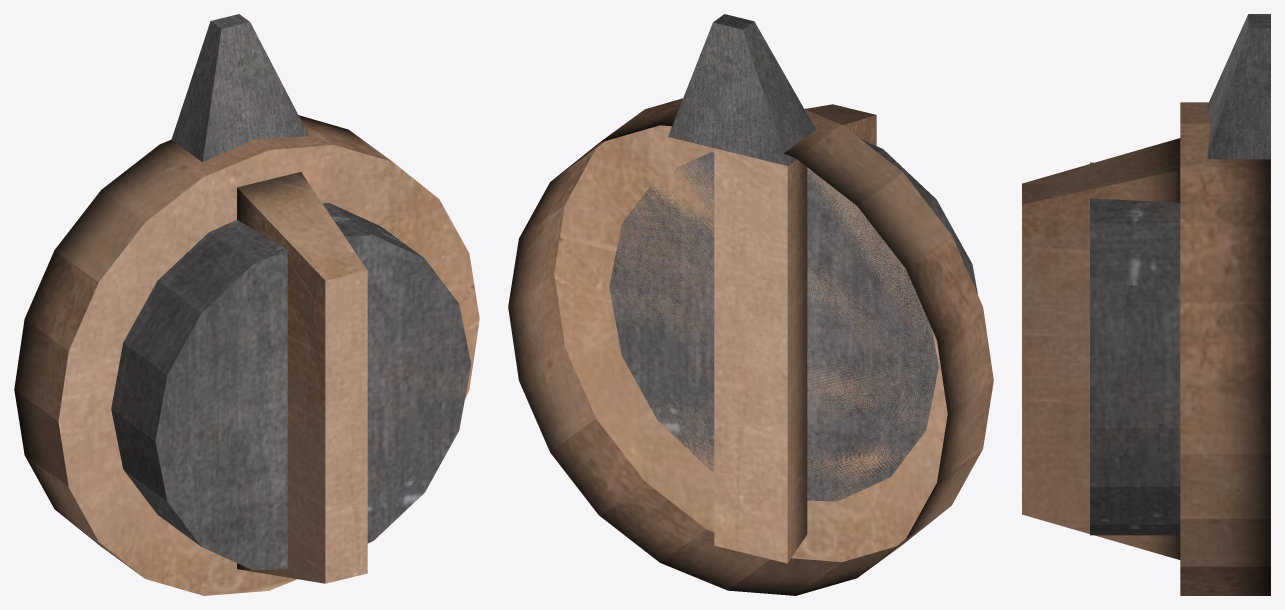
File: 914knob.fbx
3 renders of one model, left to right at view 1: azimuth 30°, elevation 25°; view 2: azimuth 150°, elevation 25°; view 3: azimuth 270°, elevation 25°, orthographic. The views are drawn at different scales.
Parts seen in each view (by area): view 1: Scene_Root (×2); view 2: Scene_Root (×2); view 3: Scene_Root (×2).
Boxes of the visible parts, x1,y1,x2,y2 form: Scene_Root (×2): (14,14,479,595); Scene_Root (×2): (508,14,993,595); Scene_Root (×2): (1022,14,1270,595).
Bounding box in the file's own units: 22 × 27 × 11.
